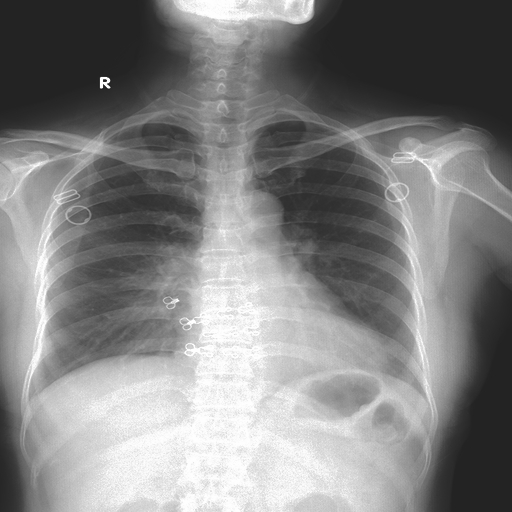Aortic enlargement: (136, 249, 205, 353)
Nodule/Mass: (170, 290, 391, 369)
Other lesion: (122, 245, 196, 330)
